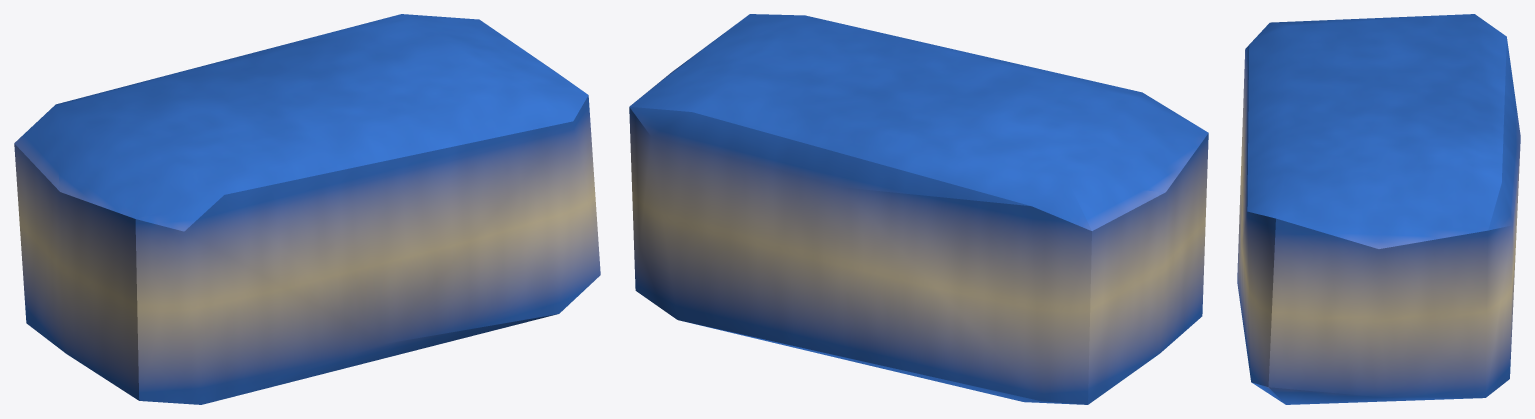
The model's file is Item_Cookies.fbx.
The picture shows the model from 3 angles, left to right: view 1: azimuth 30°, elevation 25°; view 2: azimuth 150°, elevation 25°; view 3: azimuth 270°, elevation 25°; orthographic projection. The views are drawn at different scales.
Visible parts, largest first — view 1: Item_Cookies; view 2: Item_Cookies; view 3: Item_Cookies.
Boxes of the visible parts, bbox=[...] form: Item_Cookies: bbox=[14, 14, 600, 404]; Item_Cookies: bbox=[629, 14, 1208, 404]; Item_Cookies: bbox=[1237, 14, 1520, 404].
Size of the model in its own units: 0.2592 by 0.1194 by 0.1396.
1 material, 1 textured.
